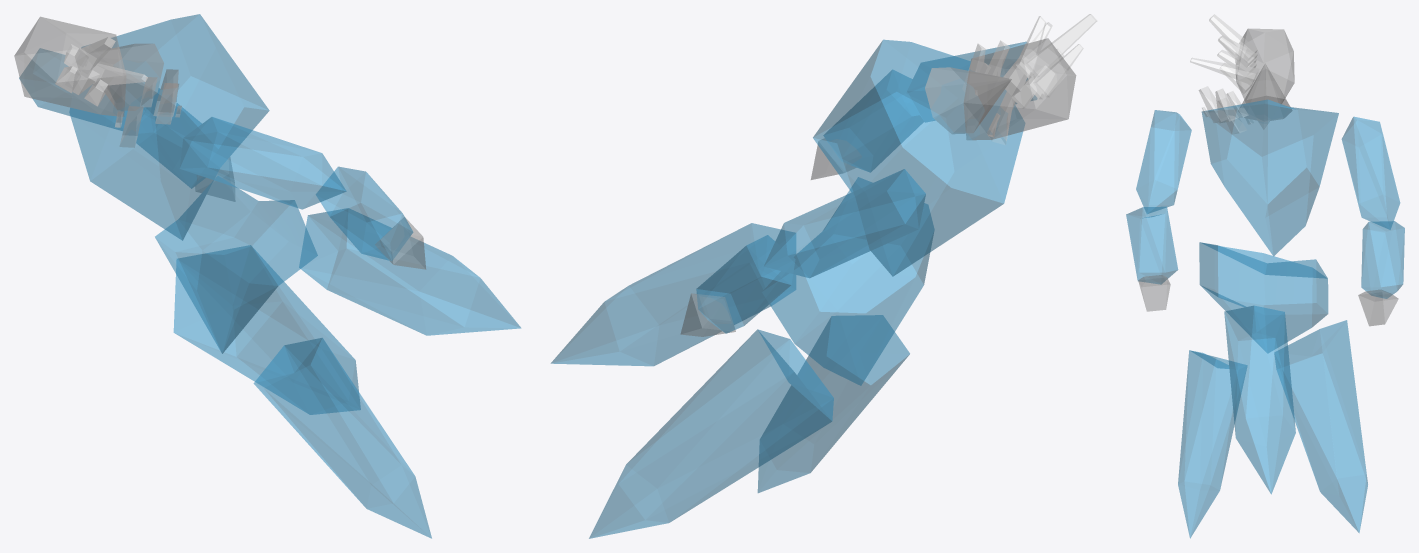
File: ghostChargingLunge22.obj
The picture shows the model from 3 angles, left to right: view 1: azimuth 30°, elevation 25°; view 2: azimuth 150°, elevation 25°; view 3: azimuth 270°, elevation 25°; orthographic projection. The views are drawn at different scales.
Visible parts, largest first — view 1: Cube.001_Cube.006, Icosphere.017, Cube_Cube.006, Icosphere.016, Icosphere.015, Icosphere.005_Icosphere.005, Icosphere.003_Icosphere.006, Icosphere.006_Icosphere.005, Icosphere.007_Icosphere.005, Icosphere.008_Icosphere.005, Cone_Cone.006, Cube.002_Cube.006 (+5 smaller); view 2: Cube.001_Cube.006, Icosphere.017, Cube_Cube.006, Icosphere.016, Icosphere.015, Icosphere.007_Icosphere.005, Icosphere.003_Icosphere.006, Icosphere.008_Icosphere.005, Icosphere.006_Icosphere.005, Cone_Cone.006, Icosphere.005_Icosphere.005, Cube.003_Cube.006 (+5 smaller); view 3: Cube.001_Cube.006, Icosphere.017, Icosphere.016, Cube_Cube.006, Icosphere.015, Icosphere.007_Icosphere.005, Icosphere.003_Icosphere.006, Icosphere.005_Icosphere.005, Icosphere.006_Icosphere.005, Icosphere.008_Icosphere.005, Cone_Cone.006, Cube.003_Cube.006 (+6 smaller).
Boxes of the visible parts, box(x1,y1,x2,y2) form: Cube.001_Cube.006: box(69, 14, 269, 240); Icosphere.017: box(173, 245, 360, 414); Cube_Cube.006: box(155, 176, 317, 353); Icosphere.016: box(299, 208, 520, 335); Icosphere.015: box(253, 338, 431, 538); Icosphere.005_Icosphere.005: box(179, 117, 346, 209); Icosphere.003_Icosphere.006: box(14, 16, 125, 116); Icosphere.006_Icosphere.005: box(316, 166, 413, 261); Icosphere.007_Icosphere.005: box(19, 48, 146, 130); Icosphere.008_Icosphere.005: box(136, 88, 204, 188); Cone_Cone.006: box(98, 43, 163, 110); Cube.002_Cube.006: box(375, 217, 425, 269); Cube.001_Cube.006: box(813, 39, 1024, 276); Icosphere.017: box(589, 329, 833, 538); Cube_Cube.006: box(762, 177, 934, 385); Icosphere.016: box(551, 223, 795, 366); Icosphere.015: box(757, 315, 909, 492); Icosphere.007_Icosphere.005: box(764, 169, 925, 278); Icosphere.003_Icosphere.006: box(963, 38, 1076, 140); Icosphere.008_Icosphere.005: box(696, 235, 794, 333); Icosphere.006_Icosphere.005: box(823, 70, 923, 172); Cone_Cone.006: box(925, 67, 1011, 133); Icosphere.005_Icosphere.005: box(907, 41, 1036, 122); Cube.003_Cube.006: box(680, 293, 735, 336); Cube.001_Cube.006: box(1201, 99, 1338, 256); Icosphere.017: box(1274, 320, 1367, 532); Icosphere.016: box(1224, 305, 1295, 494); Cube_Cube.006: box(1199, 242, 1328, 352); Icosphere.015: box(1178, 350, 1246, 538); Icosphere.007_Icosphere.005: box(1341, 116, 1400, 229); Icosphere.003_Icosphere.006: box(1235, 28, 1294, 129); Icosphere.005_Icosphere.005: box(1136, 110, 1191, 213); Icosphere.006_Icosphere.005: box(1126, 206, 1178, 284); Icosphere.008_Icosphere.005: box(1361, 221, 1404, 298); Cone_Cone.006: box(1238, 63, 1292, 121); Cube.003_Cube.006: box(1358, 289, 1398, 326).
Size of the model in its own units: 36.71 by 39.53 by 24.68.
